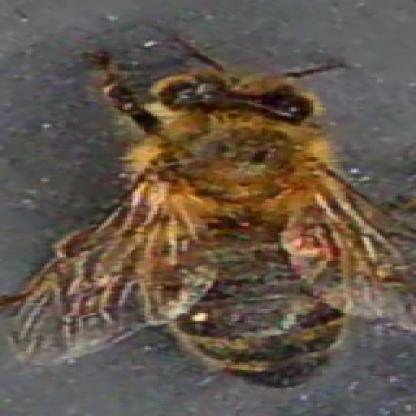bee: (118, 68, 375, 387)
